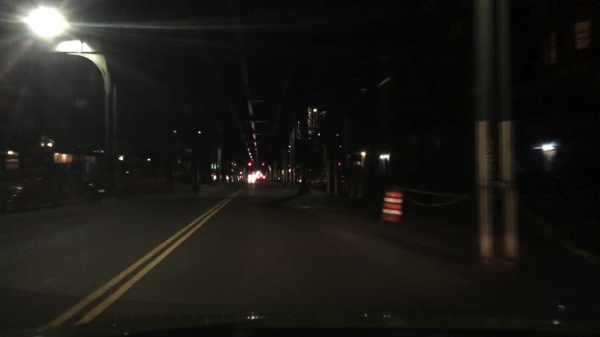car: (1, 169, 65, 210), (84, 172, 138, 200), (304, 170, 344, 191), (162, 161, 194, 184), (196, 169, 218, 184), (223, 171, 240, 183), (290, 170, 302, 185), (280, 170, 290, 184), (247, 173, 259, 182), (257, 173, 266, 181)
traffic light: (337, 160, 343, 169), (246, 160, 251, 167), (262, 162, 265, 169)
